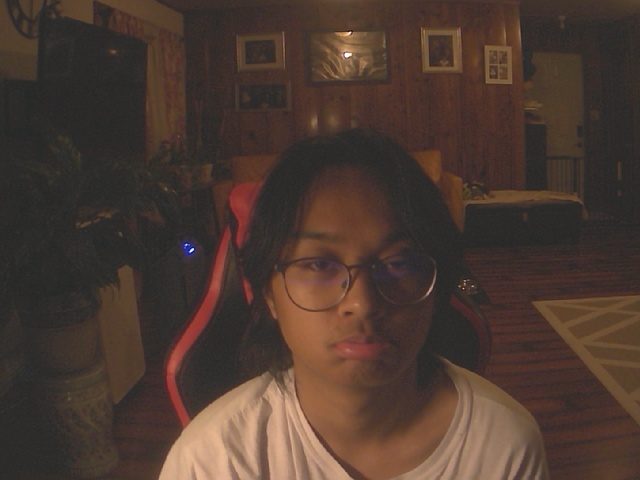sad: (228, 125, 475, 389)
